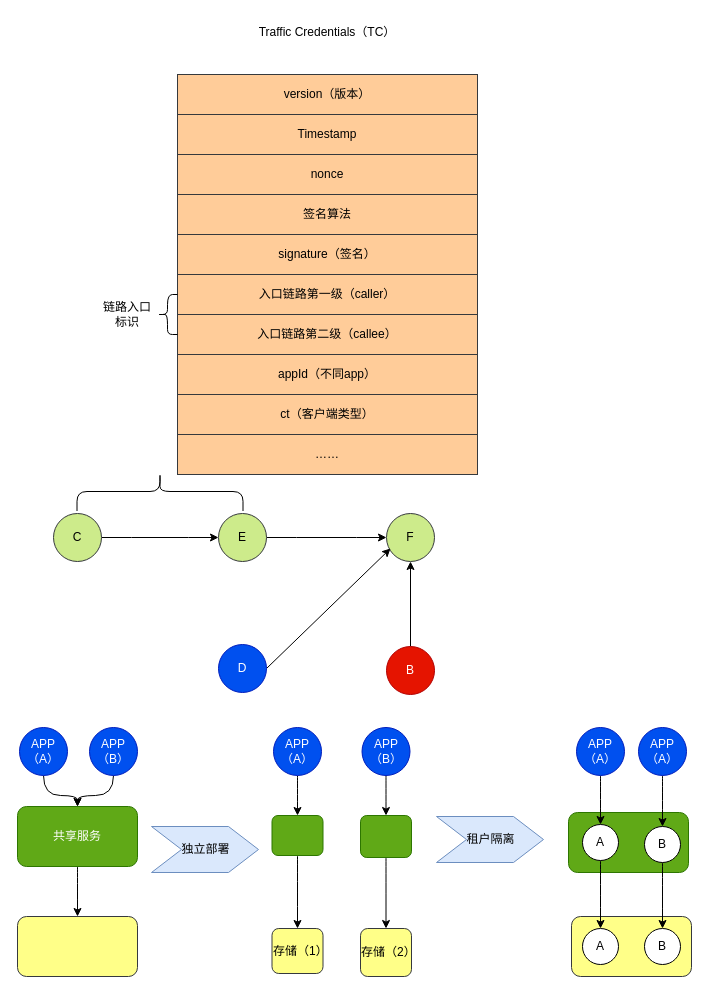
This 709x994 diagram has some shape labels left out. The shapes that lost their labels are listed below. From the top down, each one's centre as x and y in pixels, then its label:
At point 297,835: "服务（1）".
At point 386,836: "服务（2）".
At point 77,946: "共享存储".
